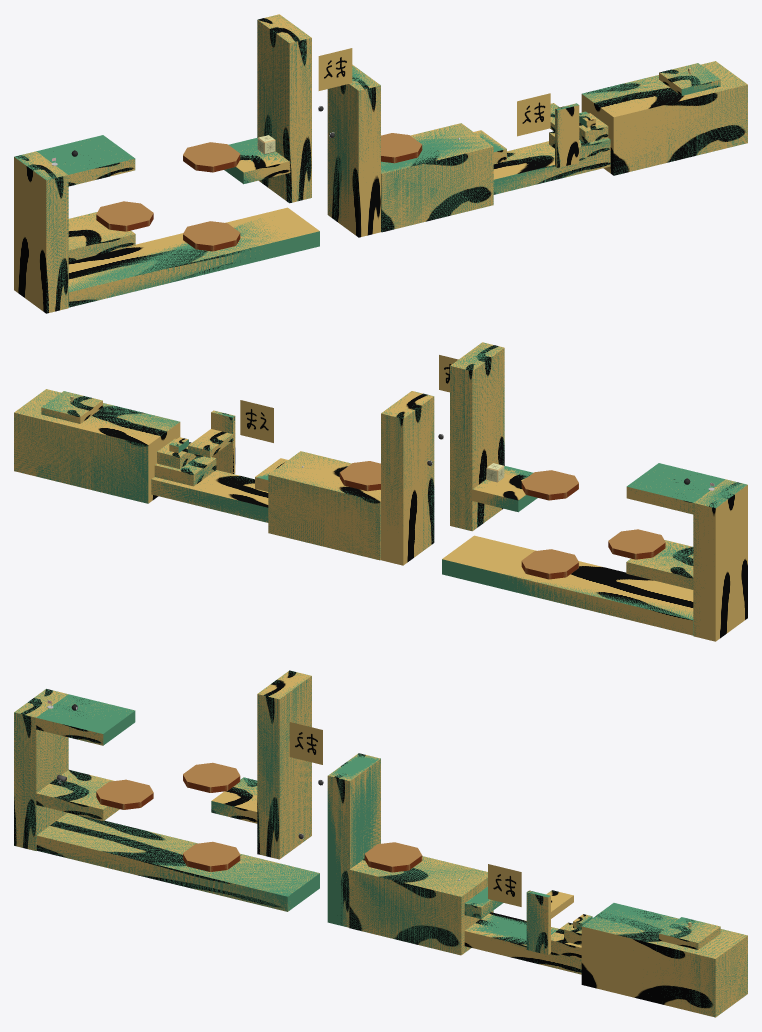
File: stage_1.obj
3 views of the same model, one above another, from view 1: azimuth 30°, elevation 25°; view 2: azimuth 150°, elevation 25°; view 3: azimuth 330°, elevation 25° (orthographic).
Visible parts, largest first — view 1: 立方体.016, 立方体, 立方体.009, 立方体.002, 立方体.013, 立方体.010, 立方体.015, 立方体.005, 立方体.011, 立方体.008, StageObjectSpawn.005, StageObjectSpawn.008 (+9 smaller); view 2: 立方体.016, 立方体, 立方体.010, 立方体.002, 立方体.015, 立方体.009, 立方体.013, 立方体.005, 立方体.011, StageObjectSpawn.005, StageObjectSpawn.008, StageObjectSpawn.006 (+9 smaller); view 3: 立方体.016, 立方体, 立方体.010, 立方体.002, 立方体.009, 立方体.013, 立方体.015, 立方体.011, 立方体.005, 立方体.012, StageObjectSpawn.001, StageObjectSpawn.005 (+8 smaller).
Boxes of the visible parts, x1,y1,x2,y2 form: 立方体.016: (14, 15, 747, 311); 立方体: (581, 61, 747, 175); 立方体.009: (257, 14, 311, 203); 立方体.002: (381, 123, 493, 232); 立方体.013: (14, 151, 68, 313); 立方体.010: (68, 207, 319, 307); 立方体.015: (327, 65, 380, 237); 立方体.005: (493, 141, 610, 194); 立方体.011: (68, 212, 135, 261); 立方体.008: (555, 103, 579, 167); StageObjectSpawn.005: (183, 221, 240, 251); StageObjectSpawn.008: (183, 142, 240, 172); 立方体.016: (14, 342, 746, 635); 立方体: (14, 389, 180, 503); 立方体.010: (442, 535, 693, 635); 立方体.002: (268, 451, 380, 560); 立方体.015: (381, 391, 434, 565); 立方体.009: (450, 342, 504, 531); 立方体.013: (693, 479, 747, 641); 立方体.005: (151, 470, 268, 522); 立方体.011: (626, 540, 693, 589); StageObjectSpawn.005: (521, 549, 578, 579); StageObjectSpawn.008: (521, 470, 578, 500); StageObjectSpawn.006: (608, 529, 665, 559); 立方体.016: (14, 670, 747, 1017); 立方体: (581, 911, 747, 1017); 立方体.010: (36, 813, 319, 911); 立方体.002: (349, 856, 493, 955); 立方体.009: (257, 670, 311, 859); 立方体.013: (14, 689, 68, 850); 立方体.015: (327, 753, 380, 927); 立方体.011: (36, 769, 119, 821); 立方体.005: (464, 912, 581, 974); 立方体.012: (211, 777, 257, 823); StageObjectSpawn.001: (364, 842, 422, 872); StageObjectSpawn.005: (183, 841, 240, 871).
Size of the model in its own units: 251 by 72.44 by 20.
